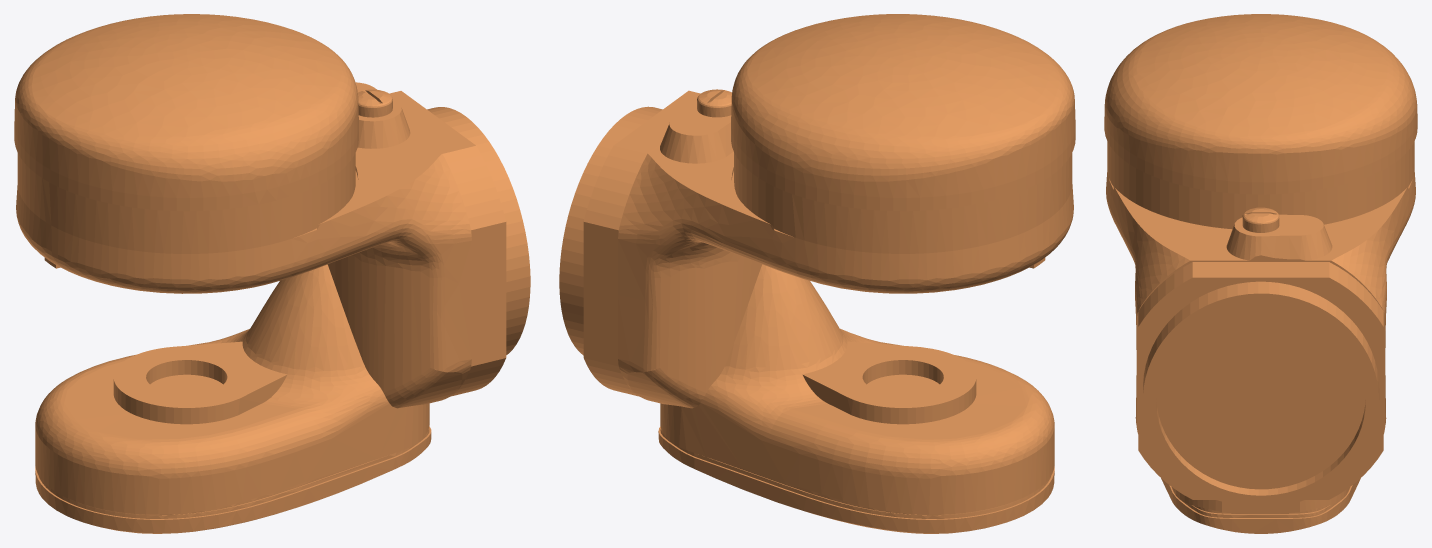
3 views of the same model, side by side, from view 1: azimuth 30°, elevation 25°; view 2: azimuth 150°, elevation 25°; view 3: azimuth 270°, elevation 25° (orthographic). The views are drawn at different scales.
Parts seen in each view (by area): view 1: /Link_5/Link_5-mesh/0; view 2: /Link_5/Link_5-mesh/0; view 3: /Link_5/Link_5-mesh/0.
Part boxes in pixels (<box>): /Link_5/Link_5-mesh/0: <box>14,14,530,533</box>; /Link_5/Link_5-mesh/0: <box>559,14,1075,533</box>; /Link_5/Link_5-mesh/0: <box>1104,14,1417,533</box>.
Bounding box in the file's own units: 0.304 × 0.3065 × 0.212.
